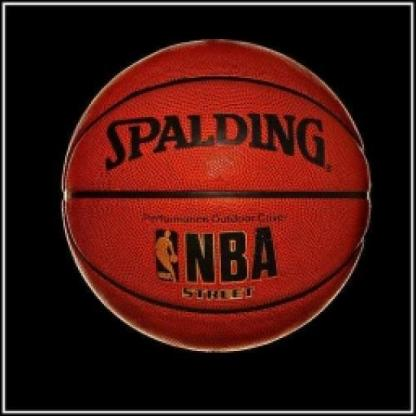basketball: (58, 32, 382, 364)
